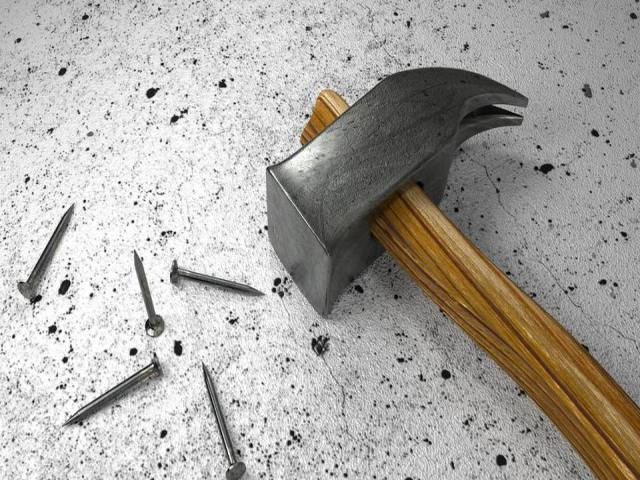hammer: (266, 64, 640, 479)
